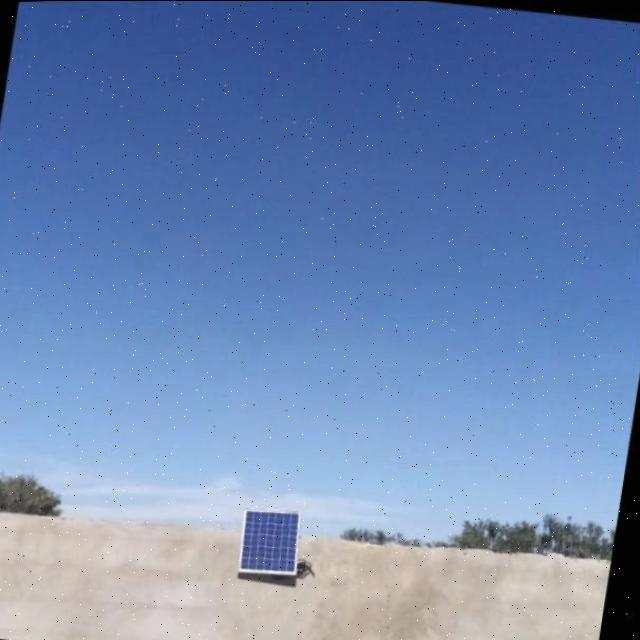Normal Solar Panel: (237, 499, 308, 574)
